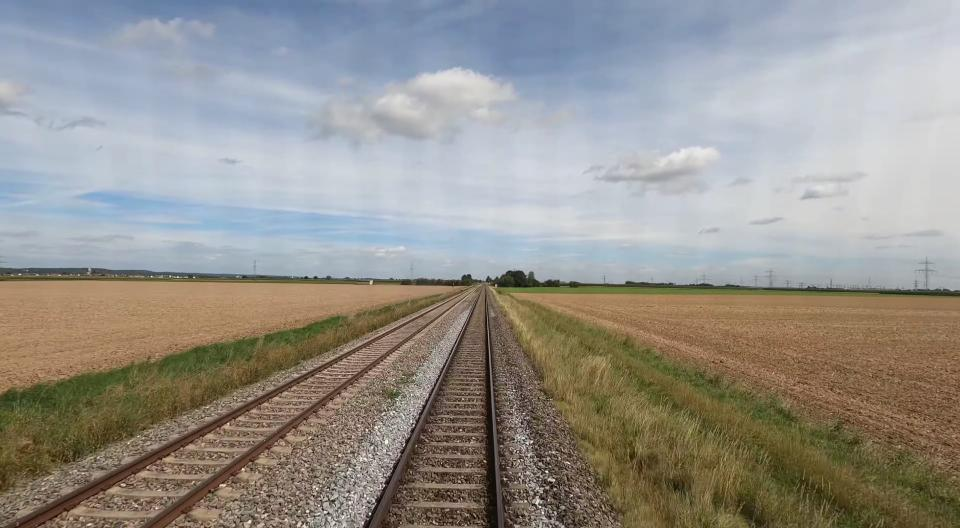Plant: (384, 389, 401, 399)
